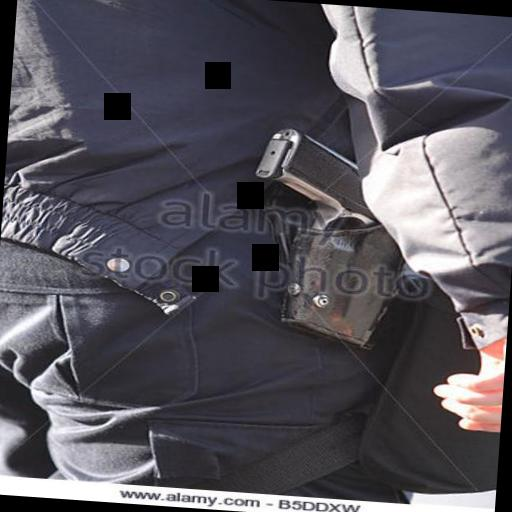Handgun: (237, 120, 422, 352)
